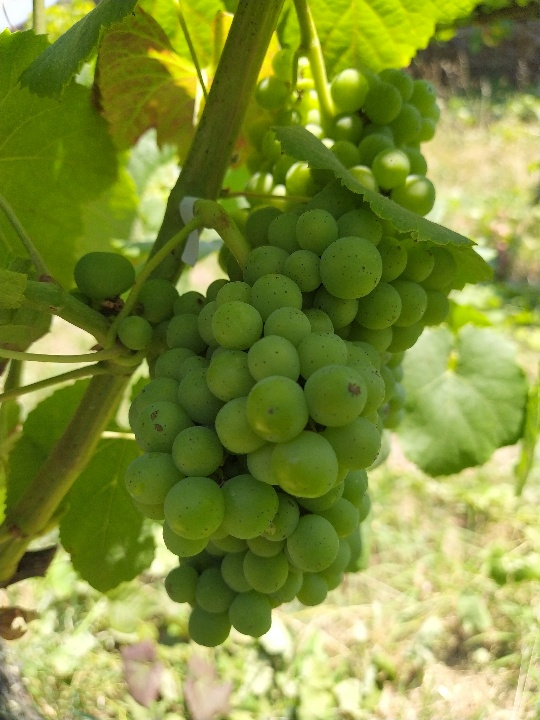grape: (74, 184, 455, 648)
